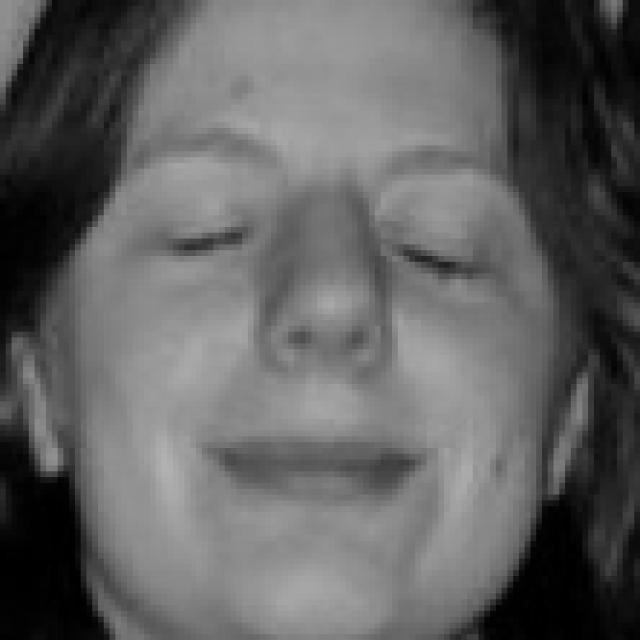real: (93, 2, 532, 590), (121, 178, 538, 300)
